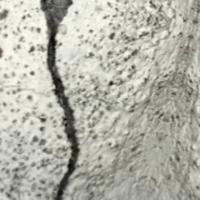crack: (25, 0, 99, 199)
